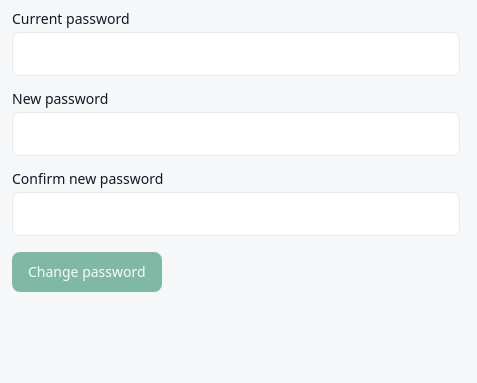
Test: ChangePasswordForm › shows reauthFailed when the password changes but silent re-auth fails
The width and height of the screenshot is (477, 383).
Type "old-password" into the password field labelled "Current password".
click(236, 54); type("old-password")  # box [12,32,460,76]
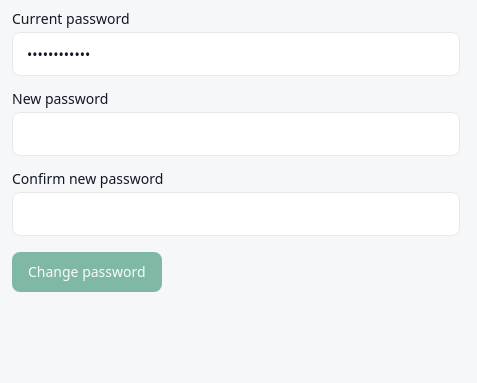
Type "new-password-1" into the password field labelled "New password".
click(236, 134); type("new-password-1")  # box [12,112,460,156]
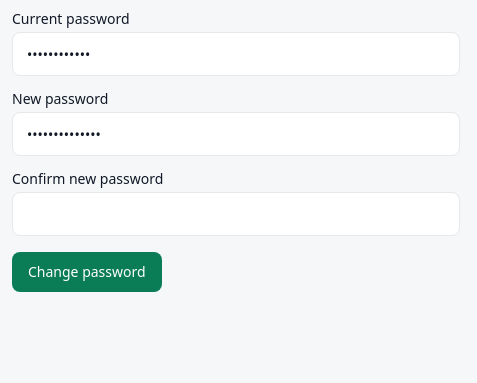
Type "new-password-1" into the password field labelled "Confirm new password".
click(236, 214); type("new-password-1")  # box [12,192,460,236]
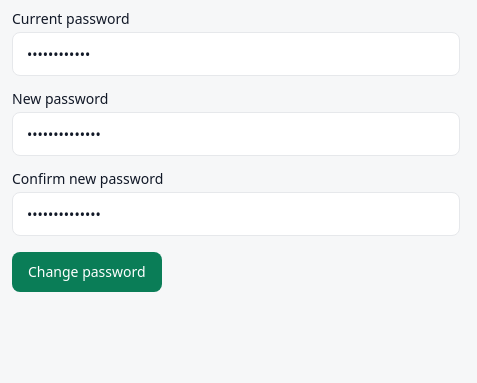
Click the button "Change password".
click(87, 272)  # box [12,252,162,292]
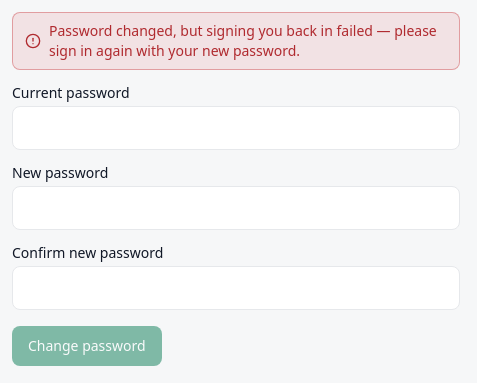
Result: the message shows "Password changed, but signing you back in failed — please sign in again with your new password." at [49,21,437,60]
